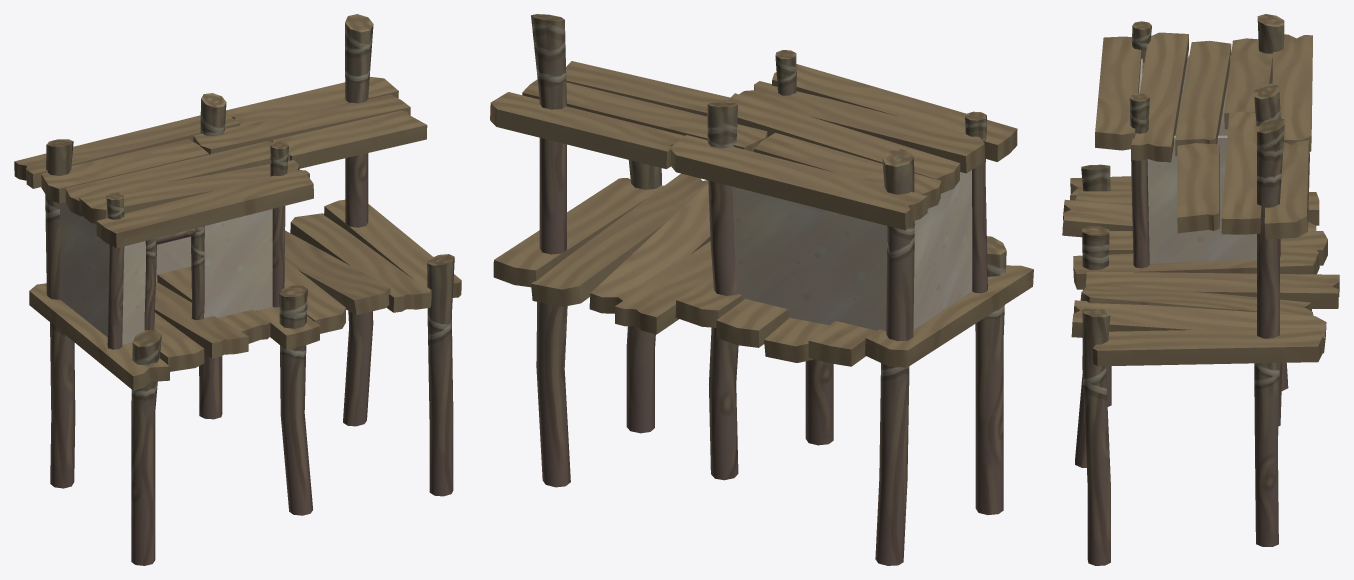
The model's file is House02_mesh.fbx.
3 views of the same model, side by side, from view 1: azimuth 30°, elevation 25°; view 2: azimuth 150°, elevation 25°; view 3: azimuth 270°, elevation 25° (orthographic). The views are drawn at different scales.
Parts seen in each view (by area): view 1: House02_mesh; view 2: House02_mesh; view 3: House02_mesh.
Boxes of the visible parts, x1,y1,x2,y2 form: House02_mesh: (14, 14, 461, 565); House02_mesh: (490, 14, 1033, 565); House02_mesh: (1062, 14, 1339, 565).
Size of the model in its own units: 5.92 by 6.46 by 3.7.
